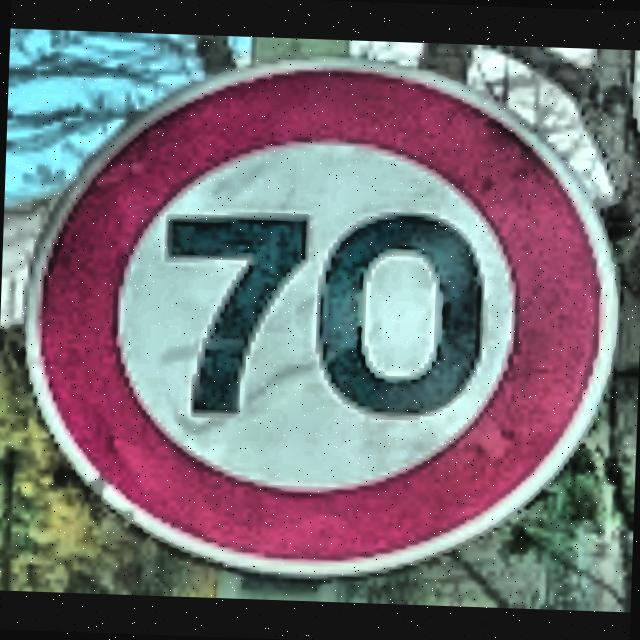speed_70: (0, 28, 640, 608)
